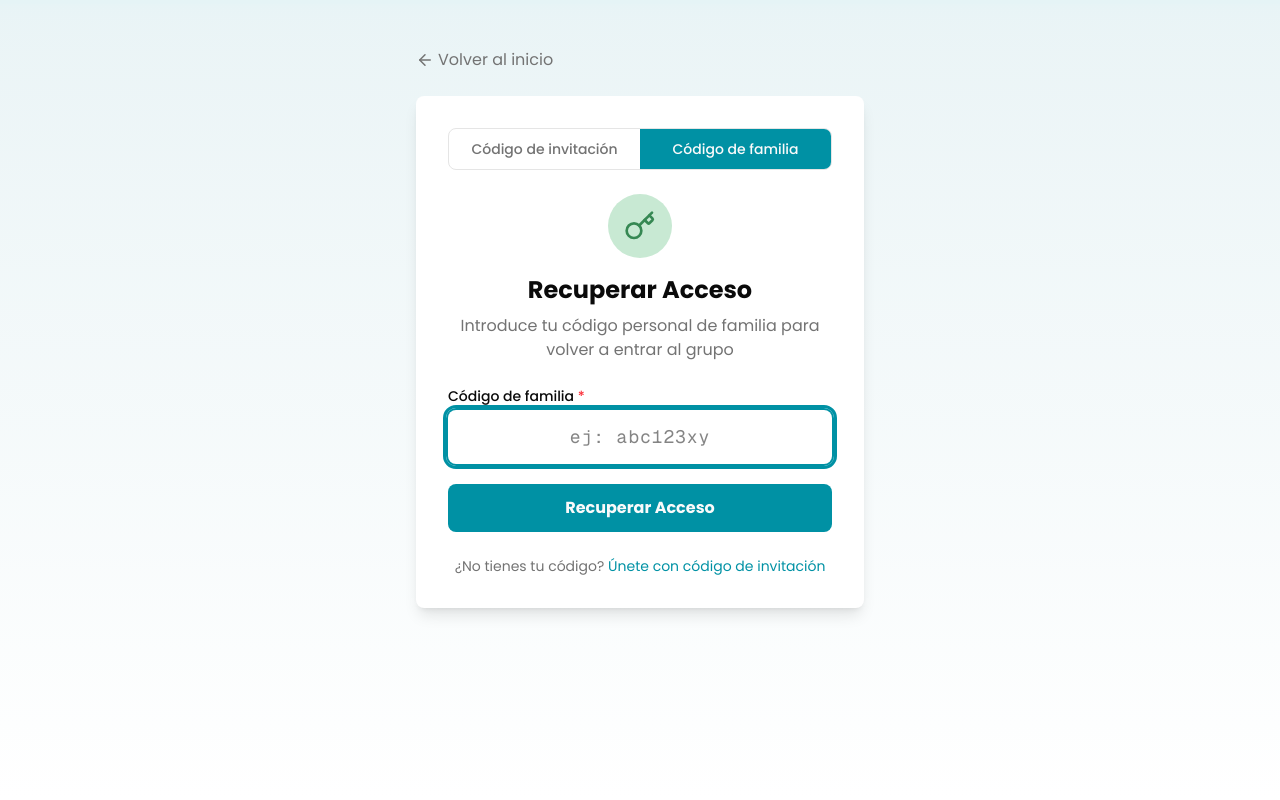
Test: JoinPage — familia tab › shows API error message when family code is invalid
Type "badcode" into the field with placeholder "ej: abc123xy".
click(640, 437); type("badcode")  # box [448,410,832,464]
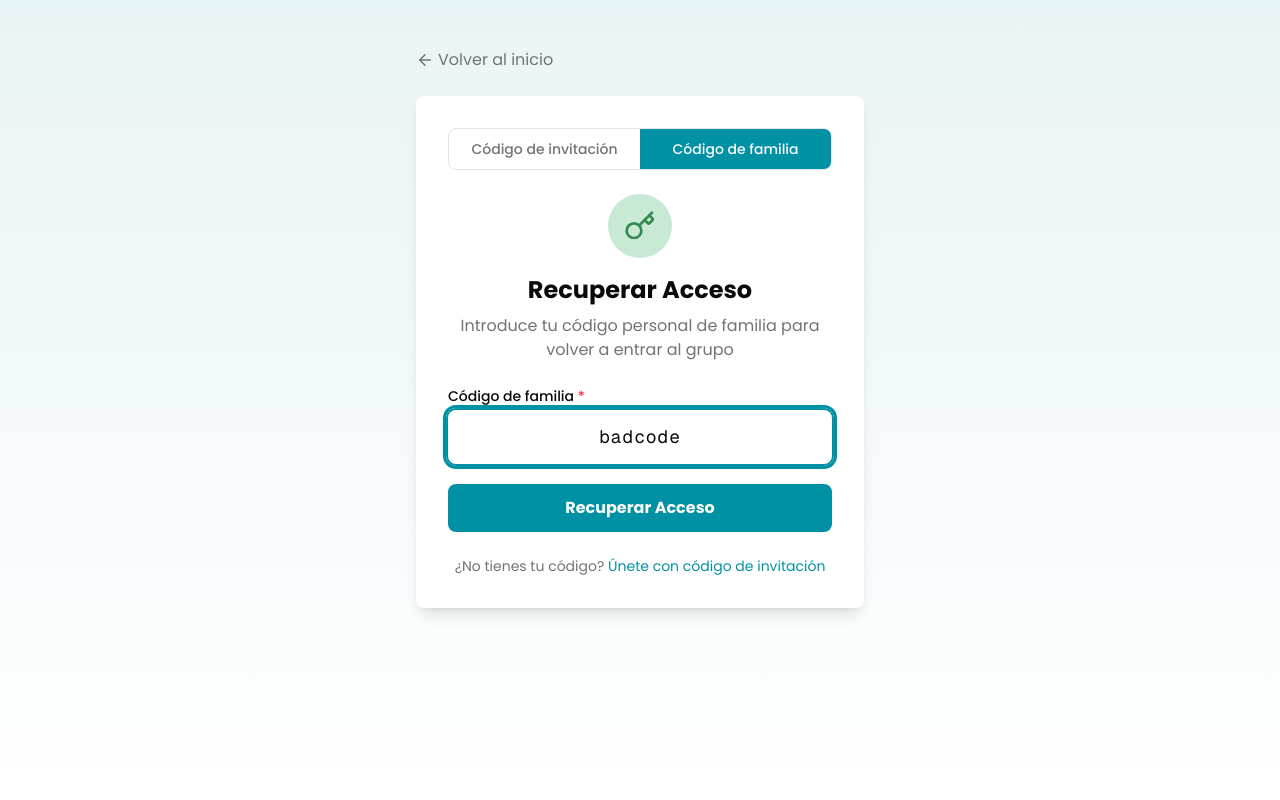
Click the button "Recuperar Acceso".
click(640, 508)  # box [448,484,832,532]
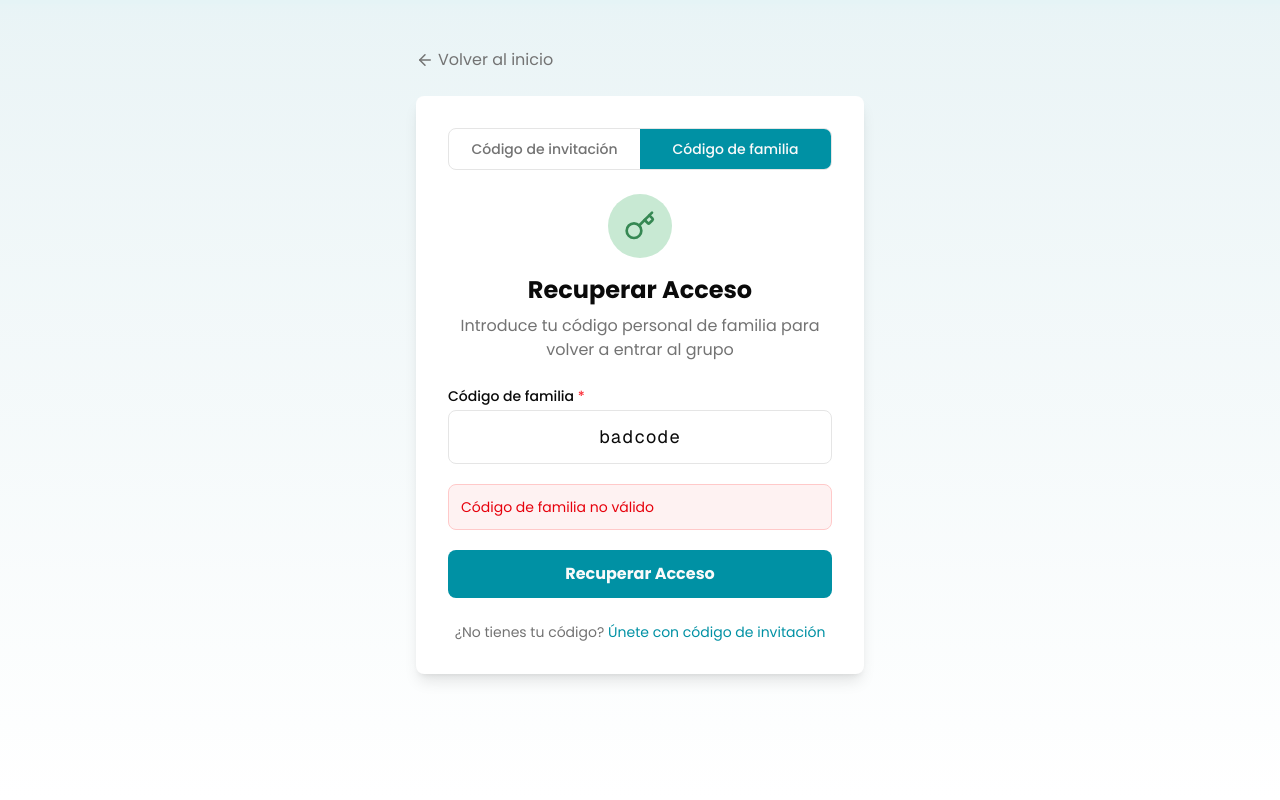
Check: the text "Código de familia no válido" is shown, box [448,484,832,530]
